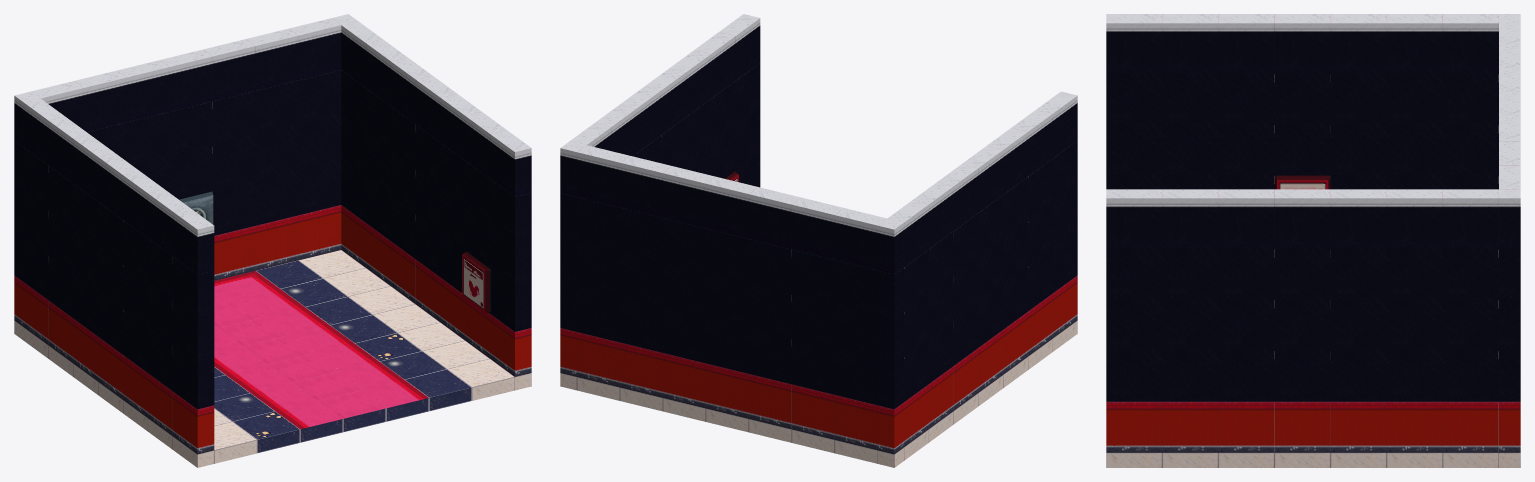
Rendered from CinemaAlley.fbx.
The picture shows the model from 3 angles, left to right: view 1: azimuth 30°, elevation 25°; view 2: azimuth 150°, elevation 25°; view 3: azimuth 270°, elevation 25°; orthographic projection. The views are drawn at different scales.
Visible parts, largest first — view 1: Alley; view 2: Alley; view 3: Alley.
Part boxes in pixels (x1=…): Alley: x1=14, y1=14, x2=531, y2=467; Alley: x1=560, y1=14, x2=1077, y2=467; Alley: x1=1106, y1=14, x2=1520, y2=467.
Bounding box in the file's own units: 778 × 530 × 739.
